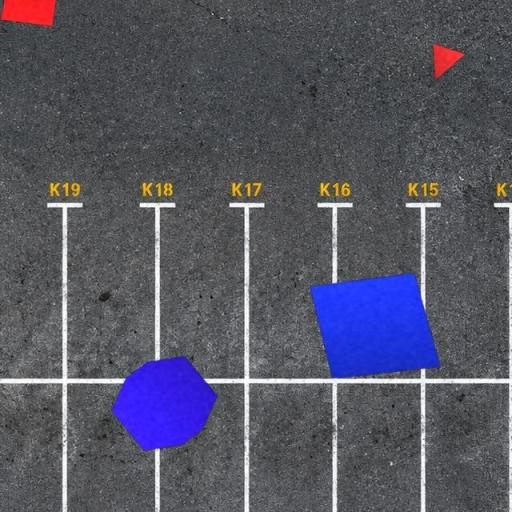BLUE_SQUARE: (308, 272, 442, 379)
RED_SQUARE: (0, 0, 61, 27)
